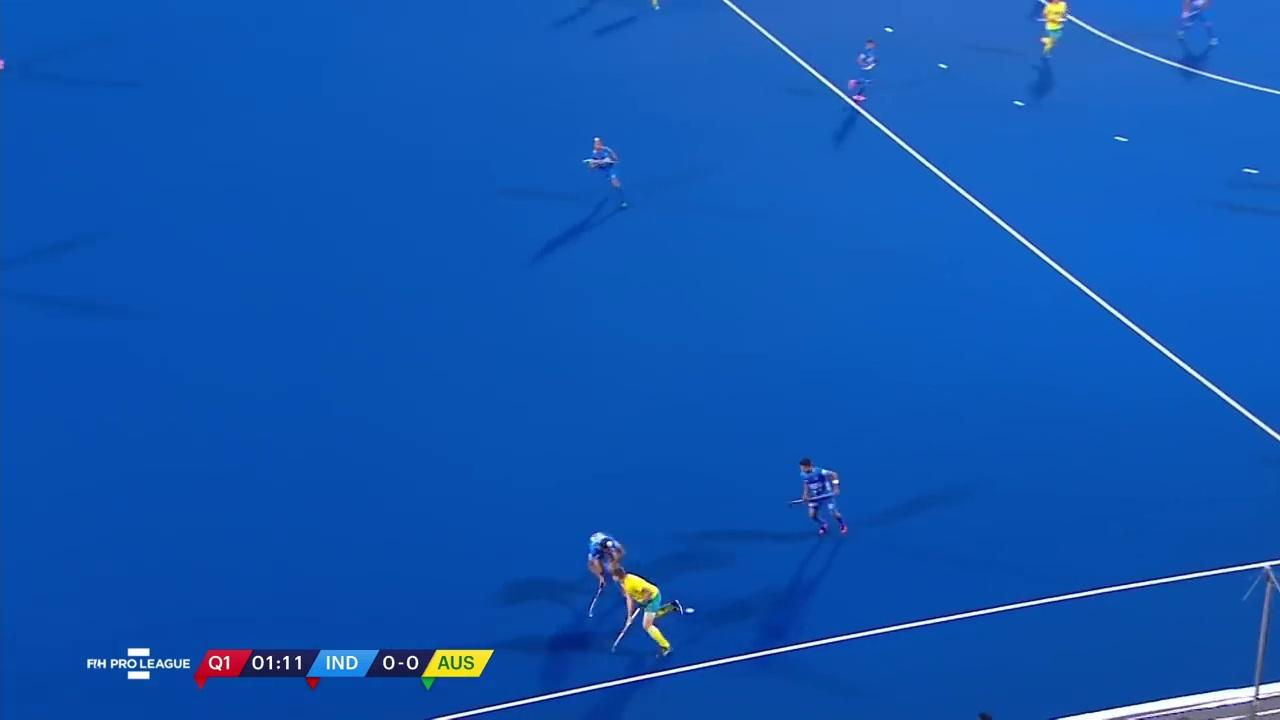ball: (682, 604, 698, 617)
